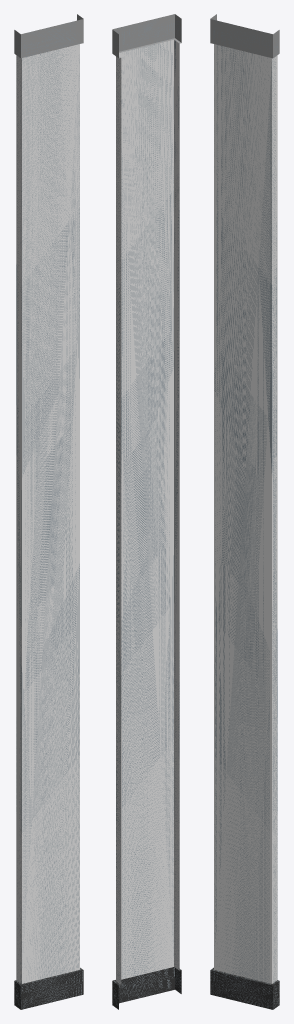
Rendered from WallFace_plinth_T1.dae.
3 views of the same model, side by side, from view 1: azimuth 30°, elevation 25°; view 2: azimuth 210°, elevation 25°; view 3: azimuth 330°, elevation 25° (orthographic).
Parts seen in each view (by area): view 1: group_0 (×3); view 2: group_0 (×3); view 3: group_0 (×3).
Boxes of the visible parts, x1=… form: group_0 (×3): x1=14, y1=14, x2=83, y2=1009; group_0 (×3): x1=112, y1=14, x2=181, y2=1009; group_0 (×3): x1=210, y1=14, x2=279, y2=1009.
Bounding box in the file's own units: 10.63 × 1.97 × 157.
